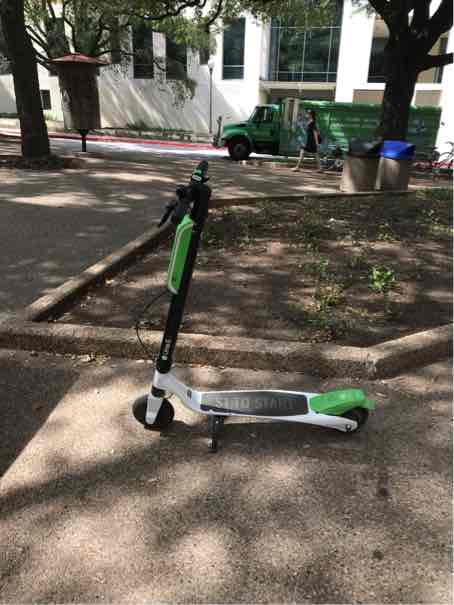scooter: (129, 141, 381, 457)
